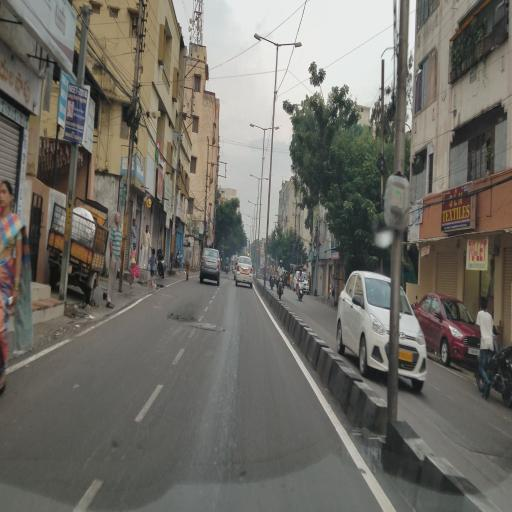street_light_0: (252, 20, 280, 58), (278, 29, 305, 59), (262, 116, 282, 134), (242, 114, 262, 131), (259, 166, 271, 184), (246, 164, 258, 182)
